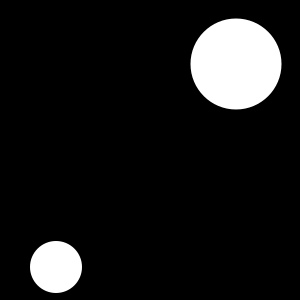rectangle: (190, 19, 282, 110), (30, 241, 82, 293)
